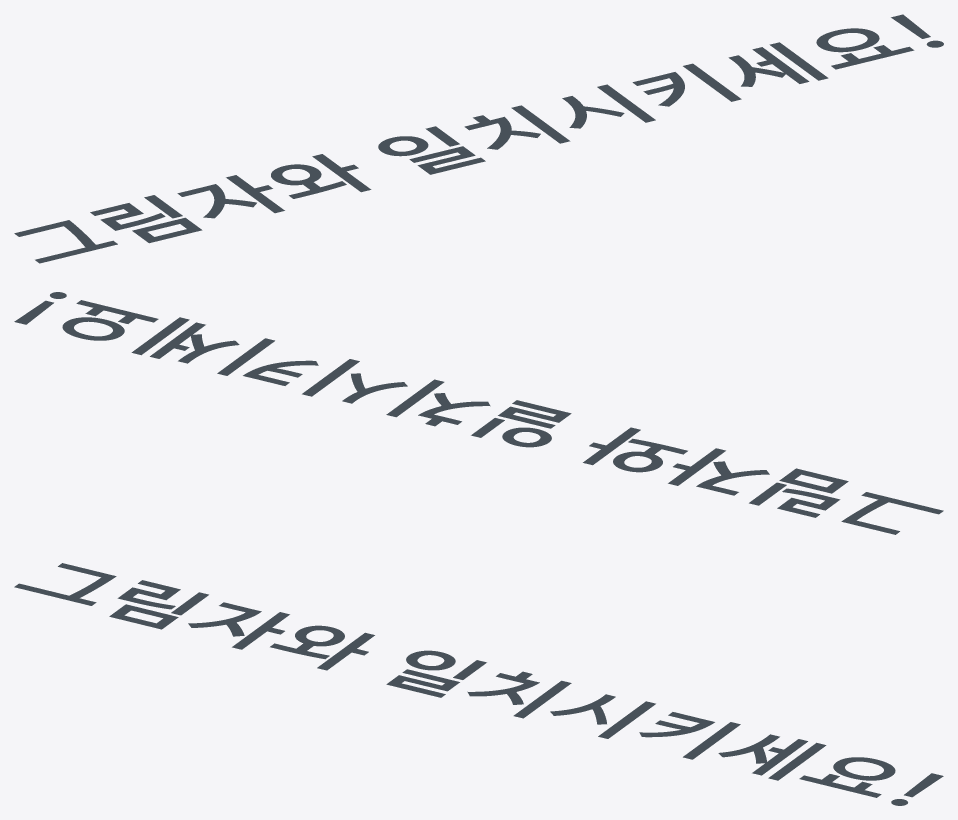
Rendered from shadowUI.fbx.
3 renders of one model, top to bottom at view 1: azimuth 30°, elevation 25°; view 2: azimuth 150°, elevation 25°; view 3: azimuth 330°, elevation 25°, orthographic.
Parts seen in each view (by area): view 1: Text; view 2: Text; view 3: Text.
Boxes of the visible parts, box(x1,y1,x2,y2) form: Text: box(14, 14, 943, 263); Text: box(14, 292, 943, 534); Text: box(14, 563, 943, 805).
Size of the model in its own units: 856 by 1.32e-05 by 80.75.
